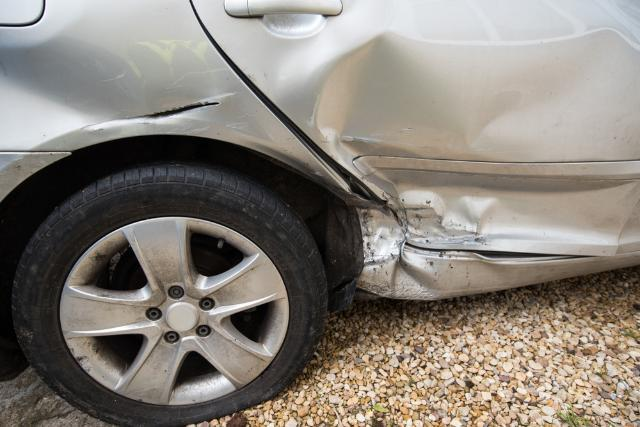crack: (141, 102, 221, 117)
dent: (313, 29, 640, 251), (0, 37, 138, 149), (360, 199, 442, 300)
